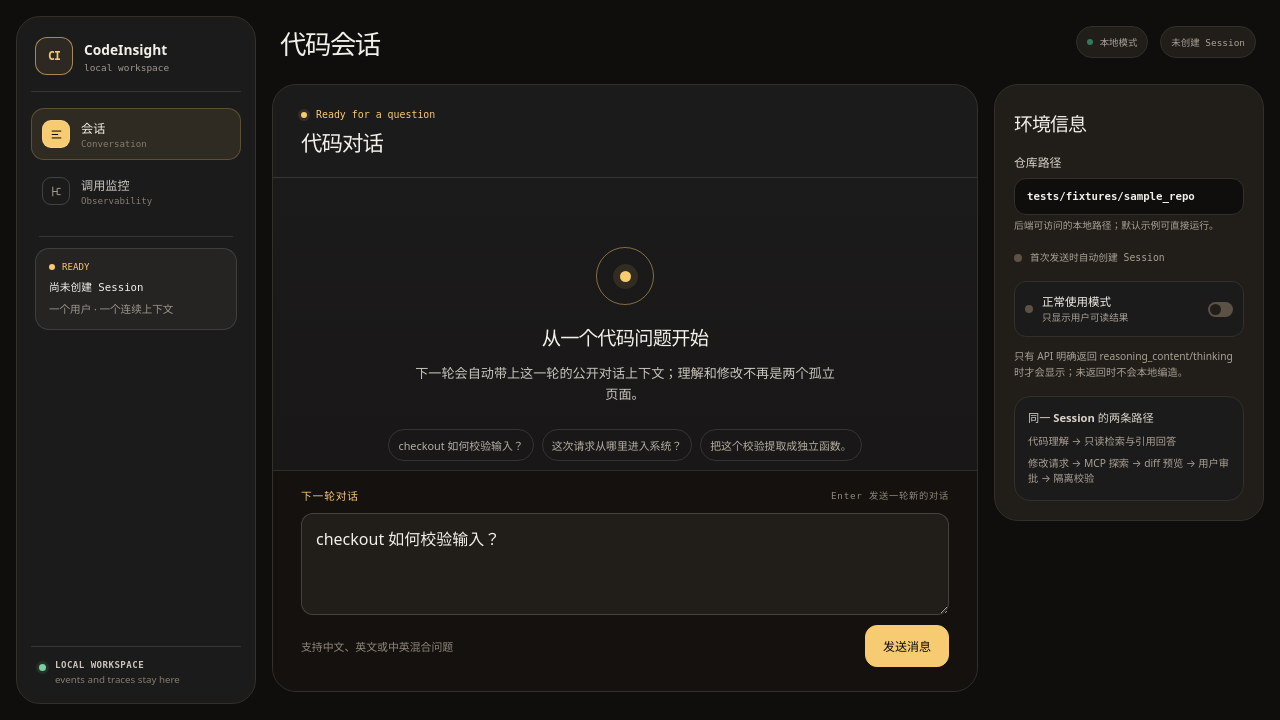
结构化事实表由后端映射的行渲染，截断时给出提示
Click the button "发送消息" at x=907, y=646, box [865,625,949,667]
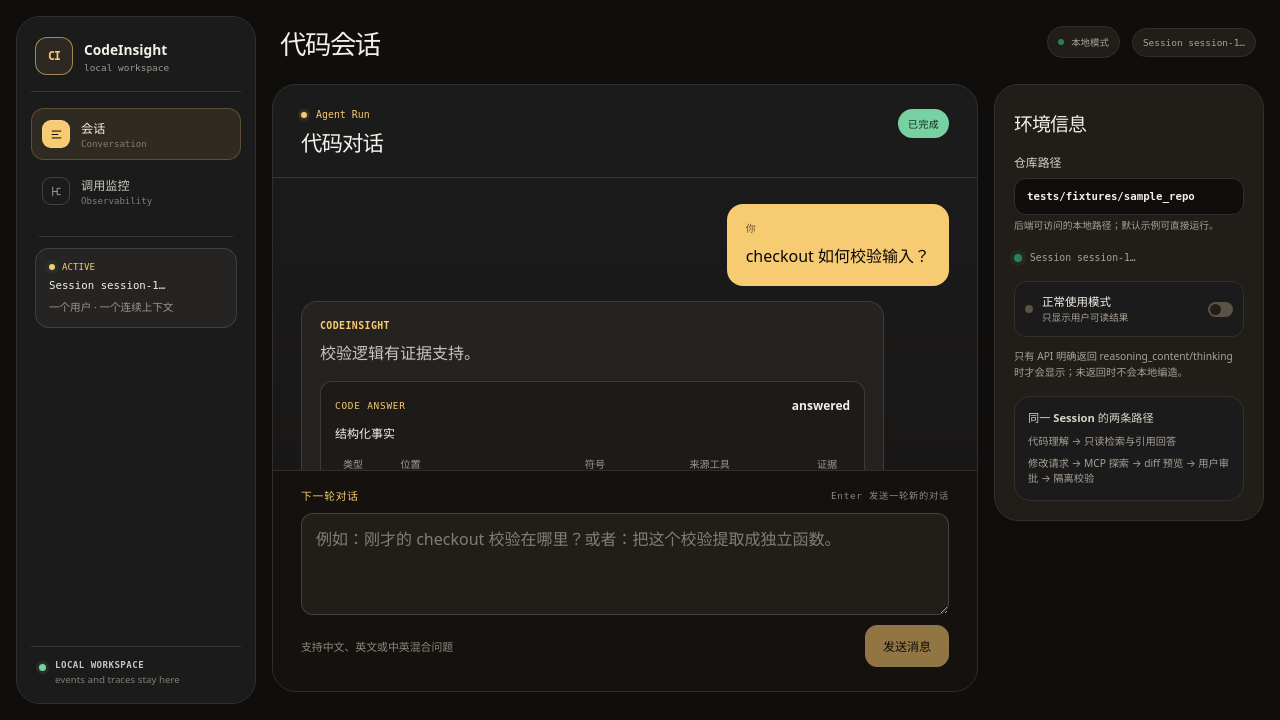
expect the heading "结构化事实" is shown: met, box [335,425,395,442]
